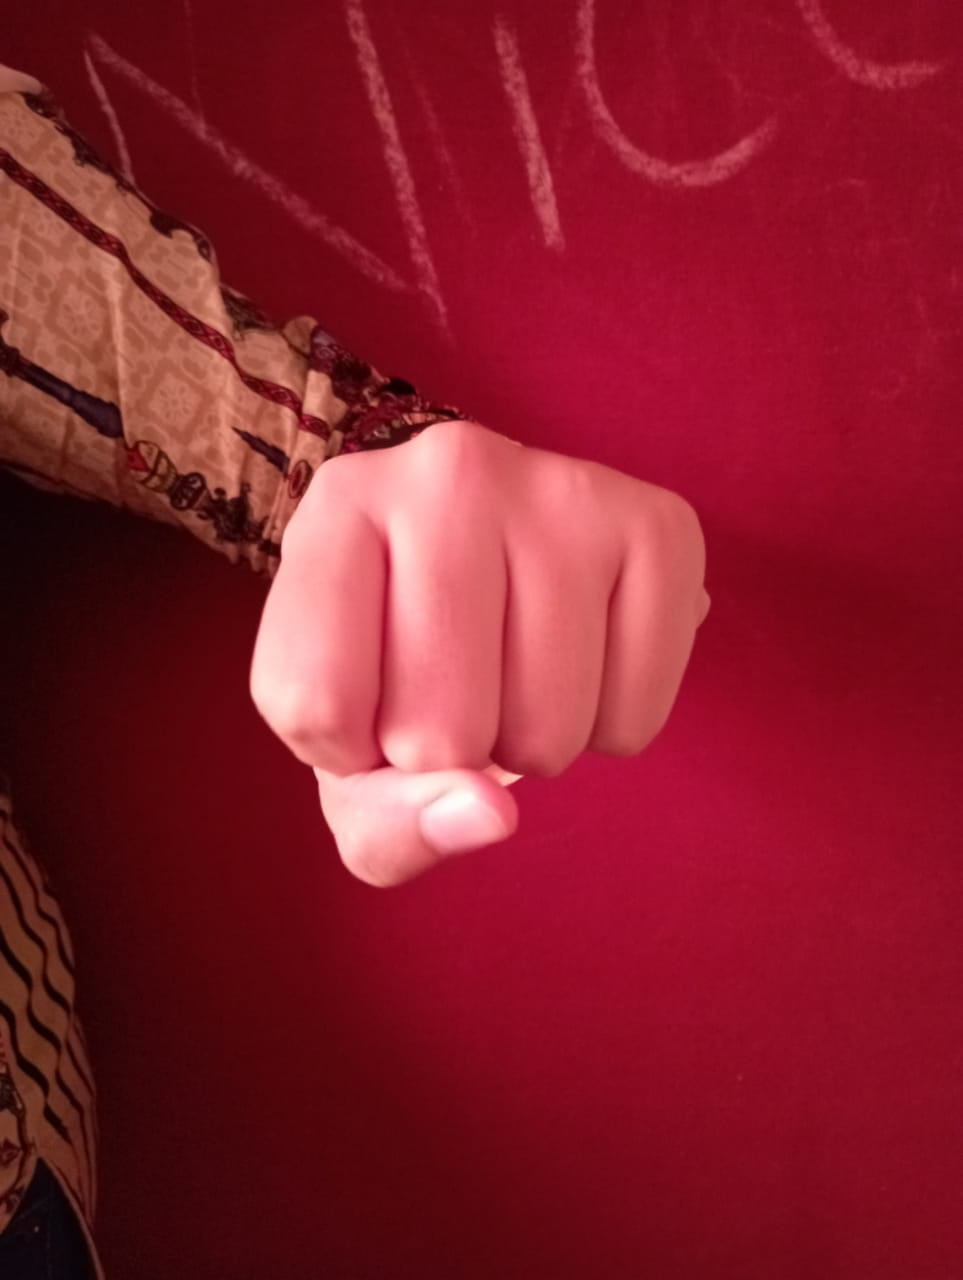BroCode: (234, 410, 727, 910)
